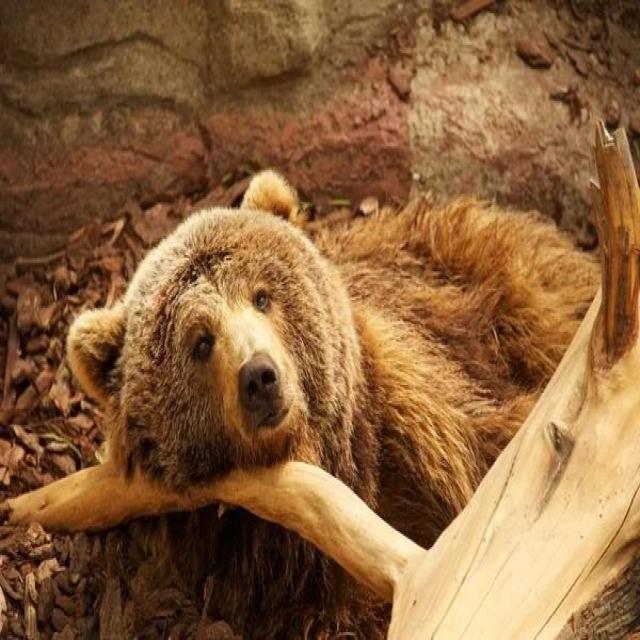Bear: (68, 172, 598, 547)
